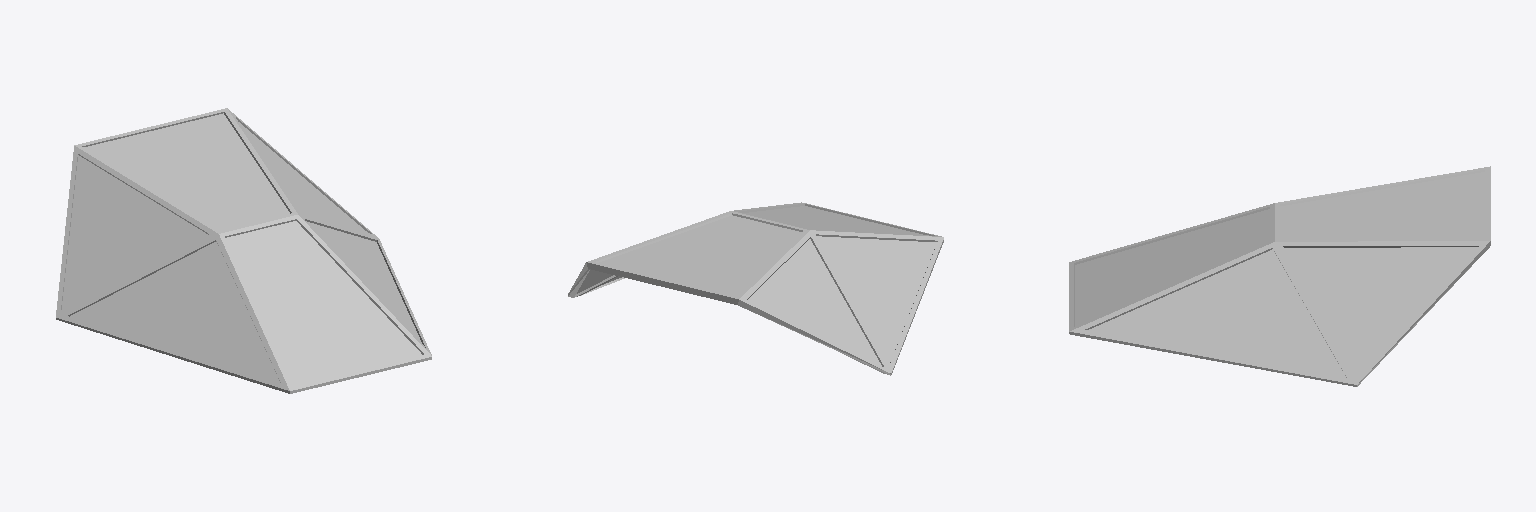
Rendered from playerspaceship_windshield.obj.
3 renders of one model, left to right at view 1: azimuth 30°, elevation 25°; view 2: azimuth 150°, elevation 25°; view 3: azimuth 270°, elevation 25°, orthographic.
Parts seen in each view (by area): view 1: CockpitGlas.001_Cube.002; view 2: CockpitGlas.001_Cube.002; view 3: CockpitGlas.001_Cube.002.
Boxes of the visible parts, box(x1,y1,x2,y2) form: CockpitGlas.001_Cube.002: box(56, 108, 431, 393); CockpitGlas.001_Cube.002: box(568, 202, 943, 375); CockpitGlas.001_Cube.002: box(1069, 166, 1490, 386).
Bounding box in the file's own units: 3.64 × 1.12 × 4.1.